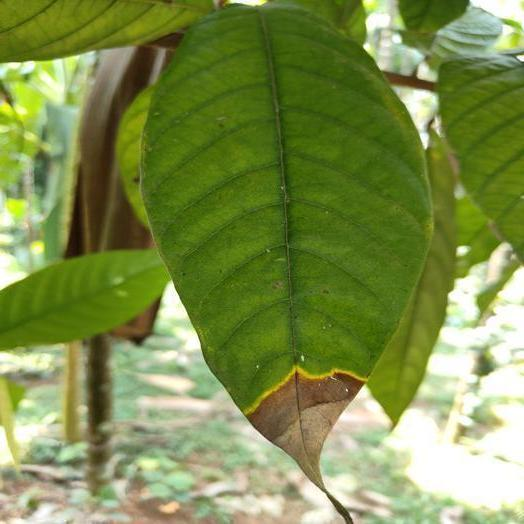Potassium: (142, 5, 430, 485)
